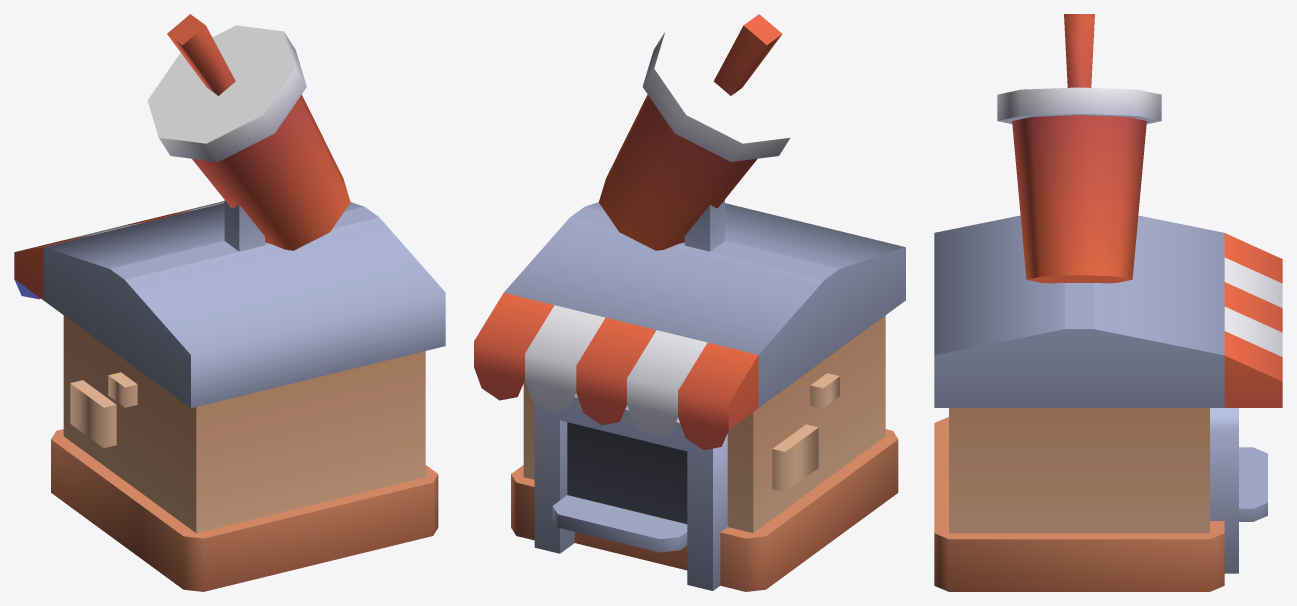
The model's file is kenney-coaster-stall-drinks.glb.
3 views of the same model, side by side, from view 1: azimuth 30°, elevation 25°; view 2: azimuth 150°, elevation 25°; view 3: azimuth 270°, elevation 25° (orthographic).
Parts seen in each view (by area): view 1: stall-drinks; view 2: stall-drinks; view 3: stall-drinks.
Boxes of the visible parts, <box> form: stall-drinks: <box>14,14,445,591</box>; stall-drinks: <box>474,14,905,591</box>; stall-drinks: <box>934,14,1282,591</box>.
Bounding box in the file's own units: 0.9999 × 1.88 × 1.2.
1 material, 1 textured.
